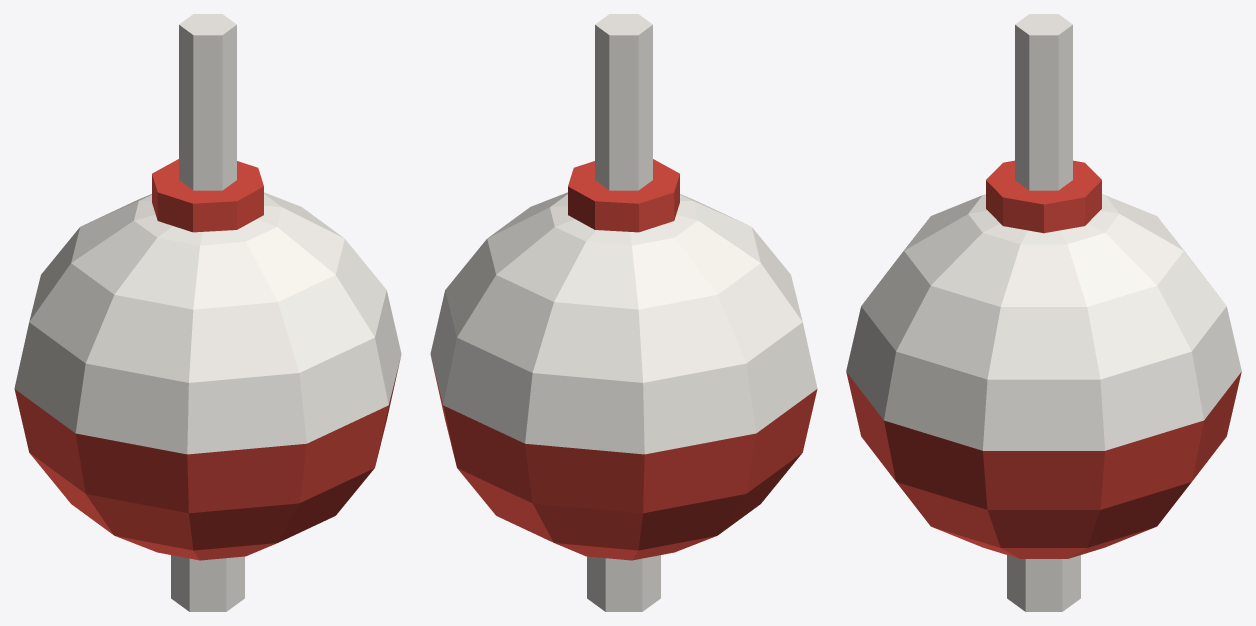
The model's file is bobber.glb.
The picture shows the model from 3 angles, left to right: view 1: azimuth 30°, elevation 25°; view 2: azimuth 150°, elevation 25°; view 3: azimuth 270°, elevation 25°; orthographic projection.
Visible parts, largest first — view 1: bobber; view 2: bobber; view 3: bobber.
Boxes of the visible parts, x1,y1,x2,y2 form: bobber: [14, 14, 401, 611]; bobber: [430, 14, 817, 611]; bobber: [846, 14, 1241, 611].
Bounding box in the file's own units: 0.1427 × 0.24 × 0.15.
